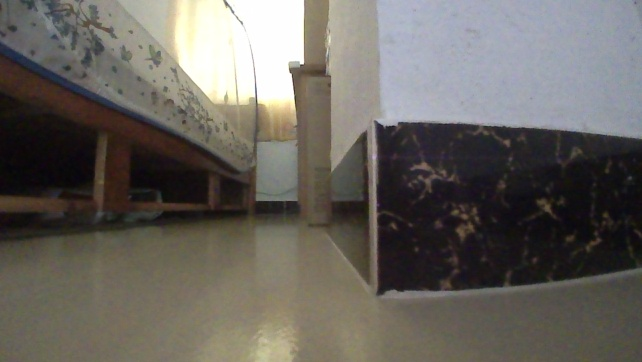bed1: (0, 0, 262, 223)
